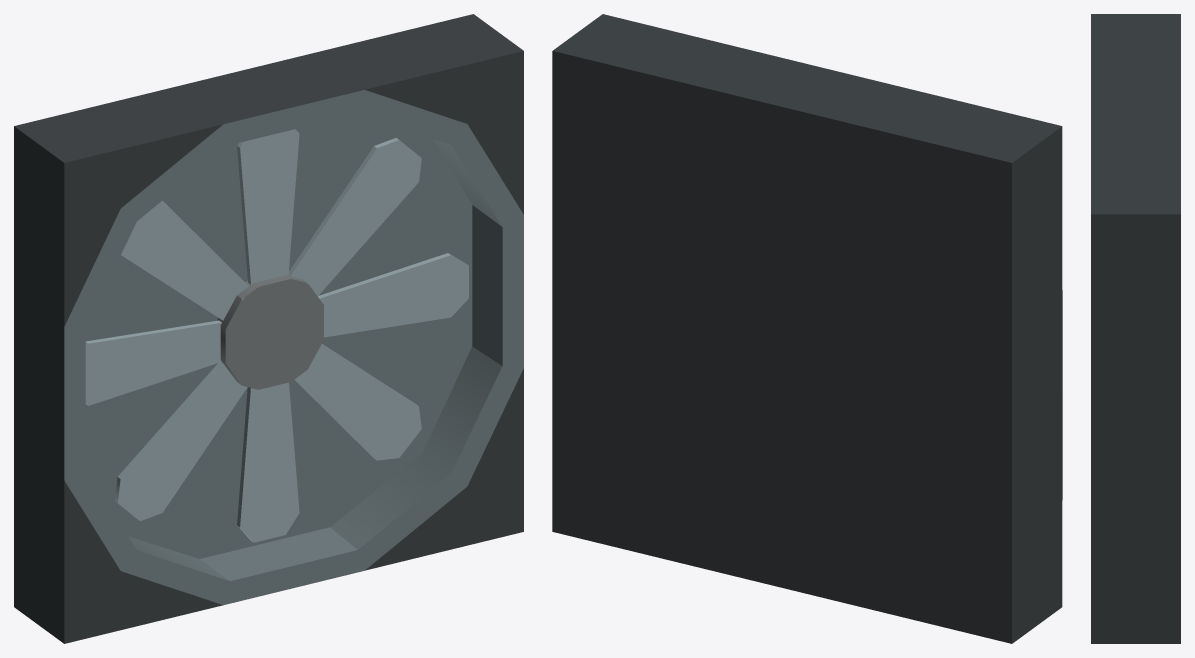
Rendered from breathable.fbx.
3 views of the same model, side by side, from view 1: azimuth 30°, elevation 25°; view 2: azimuth 150°, elevation 25°; view 3: azimuth 270°, elevation 25° (orthographic). The views are drawn at different scales.
Parts seen in each view (by area): view 1: polySurface25, polySurface24, blade, pCube27, pCube25, pCube23, pCube24, pCube21, pCube28, pCube22, pCube26; view 2: polySurface24; view 3: polySurface24.
Part boxes in pixels (x1,y1,x2,y2): polySurface25: [64, 90, 523, 604]; polySurface24: [14, 14, 523, 643]; blade: [217, 275, 323, 389]; pCube27: [114, 362, 247, 521]; pCube25: [288, 138, 421, 296]; pCube23: [237, 382, 299, 542]; pCube24: [318, 253, 468, 337]; pCube21: [237, 129, 299, 284]; pCube28: [294, 344, 421, 460]; pCube22: [85, 320, 221, 405]; pCube26: [121, 200, 248, 320]; polySurface24: [552, 14, 1062, 643]; polySurface24: [1091, 14, 1180, 643].
Size of the model in its own units: 7.71 by 7.71 by 1.46.
Materials: 3 (3 with a texture image).
